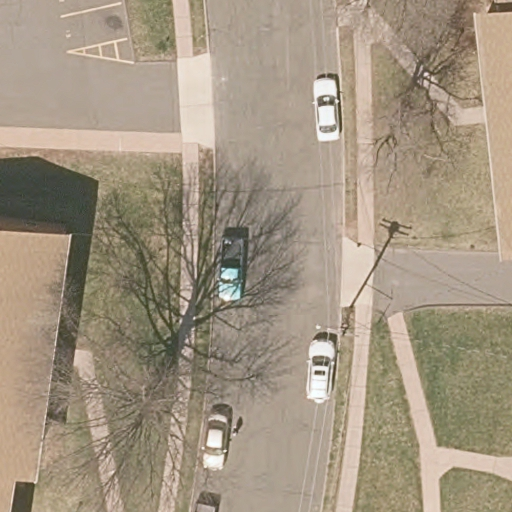DT: (316, 306, 356, 339)
